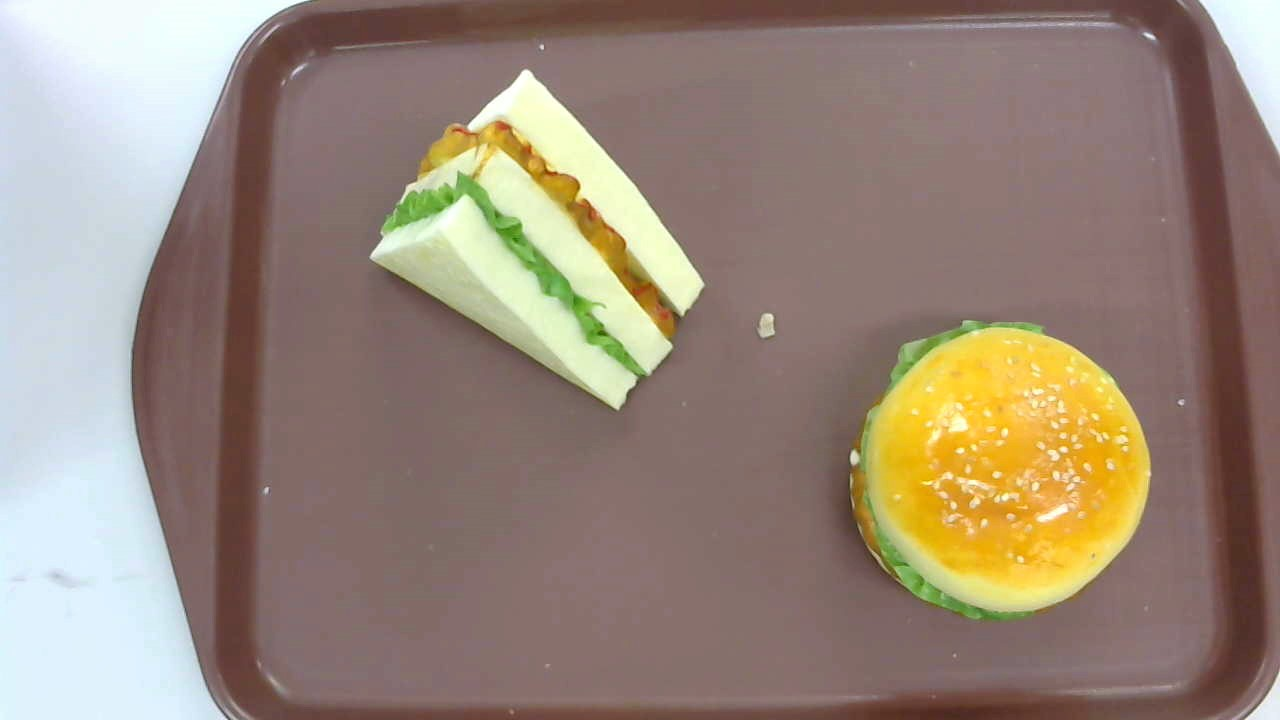hamburger: (849, 322, 1150, 621)
sandwich: (369, 66, 708, 412)
